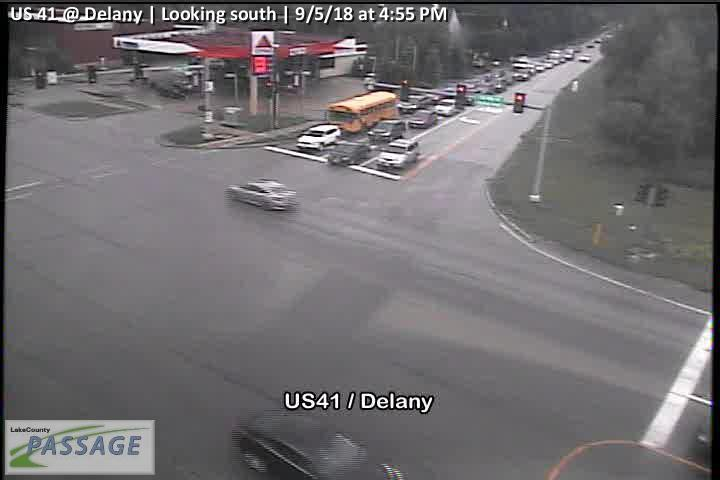Bus: (325, 91, 399, 138)
SUV: (375, 137, 420, 172), (296, 124, 341, 155), (366, 118, 406, 146)
Sedan: (231, 408, 406, 480), (226, 178, 299, 211), (329, 140, 373, 165), (408, 108, 438, 129), (433, 99, 462, 116)
